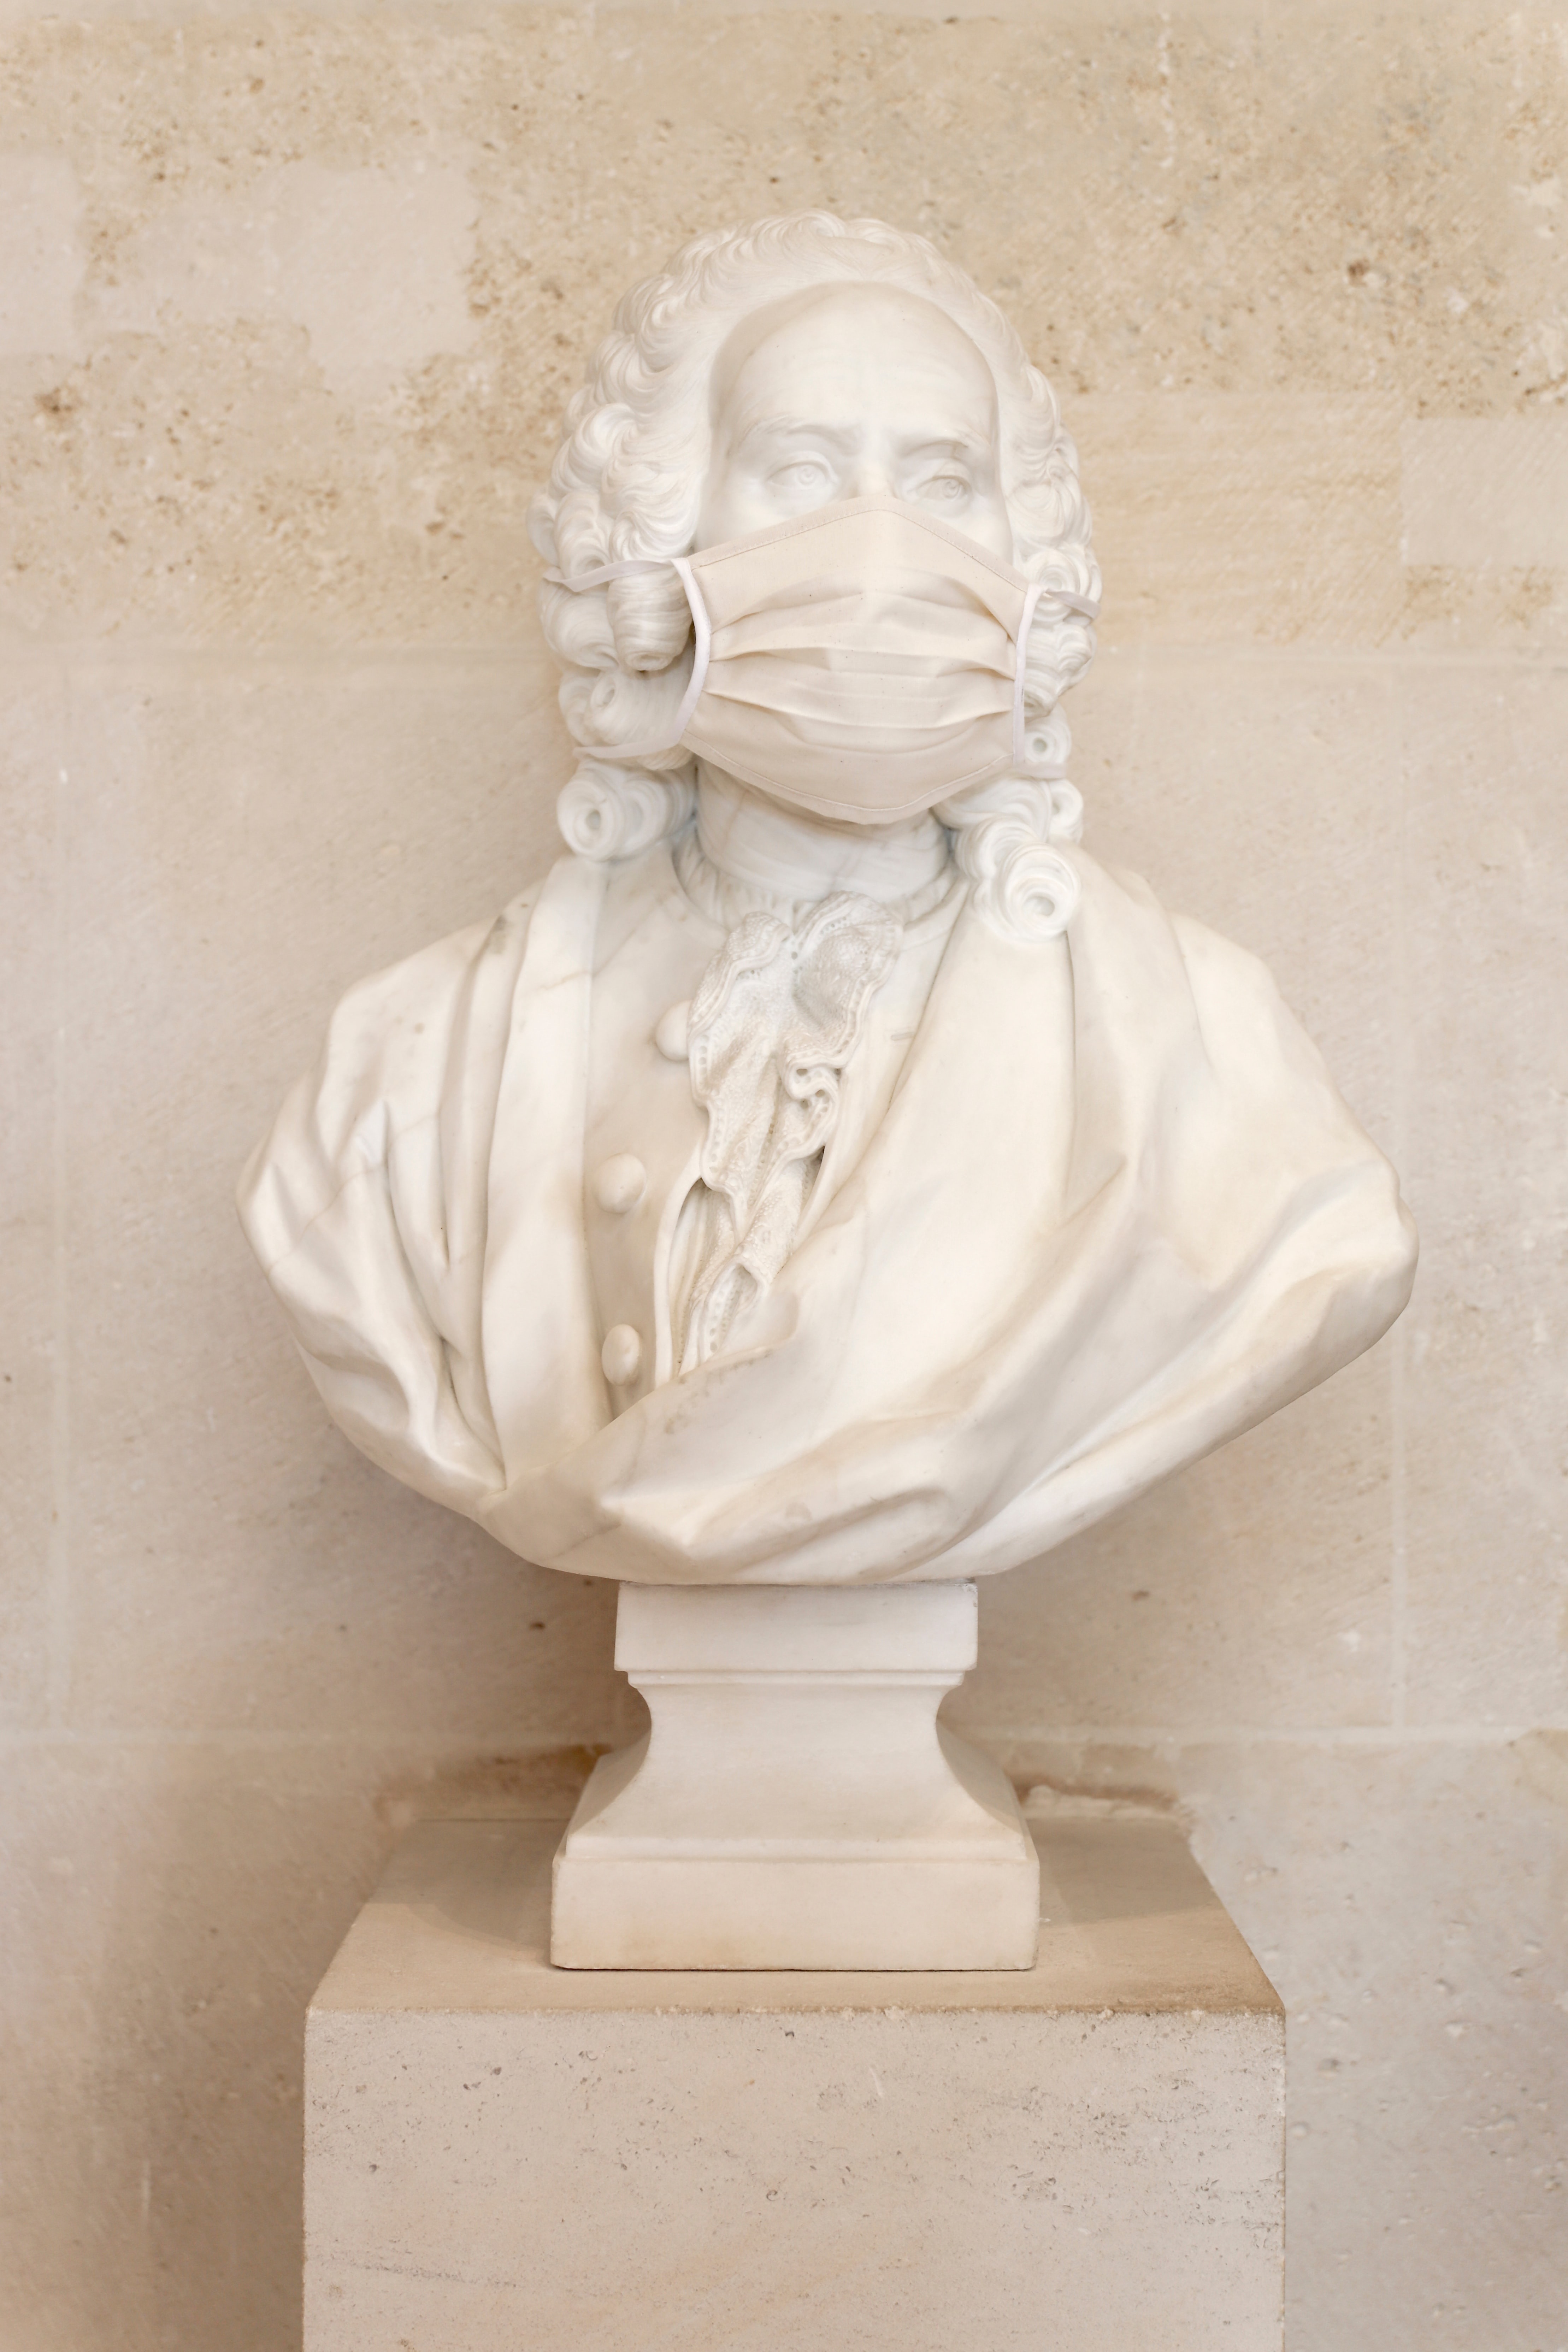mask: (647, 492, 1048, 849)
